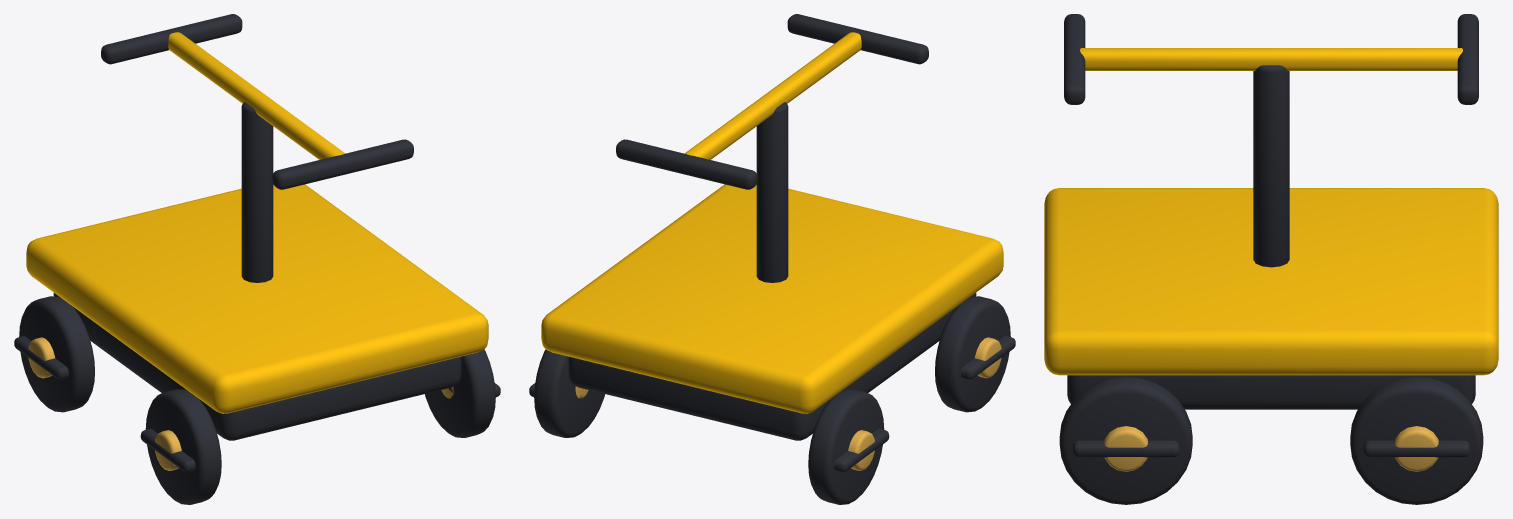
Rendered from carrinho.glb.
3 renders of one model, left to right at view 1: azimuth 30°, elevation 25°; view 2: azimuth 150°, elevation 25°; view 3: azimuth 270°, elevation 25°, orthographic. The views are drawn at different scales.
Parts seen in each view (by area): view 1: Cube, Cube.001, Cylinder.002, Cylinder, Cylinder.008, Cube.006, Cylinder.004, Cube.007, Cube.008, Cube.002, Cube.003, Cylinder.003 (+1 smaller); view 2: Cube, Cube.001, Cylinder, Cylinder.002, Cylinder.008, Cube.006, Cylinder.006, Cube.008, Cube.007, Cube.002, Cube.003, Cylinder.001 (+1 smaller); view 3: Cube, Cylinder.004, Cylinder.006, Cube.001, Cube.006, Cylinder.008, Cube.007, Cube.008, Cube.004, Cube.005, Cylinder.005, Cylinder.007.
Part boxes in pixels (box(x1,y1,x2,y2)): Cube: box(26, 184, 488, 413); Cube.001: box(53, 293, 461, 440); Cylinder.002: box(19, 296, 94, 412); Cylinder: box(145, 389, 221, 504); Cylinder.008: box(241, 102, 273, 282); Cube.006: box(168, 32, 344, 159); Cylinder.004: box(425, 349, 495, 437); Cube.007: box(272, 139, 413, 189); Cube.008: box(101, 14, 242, 64); Cube.002: box(140, 428, 195, 472); Cube.003: box(14, 336, 68, 379); Cylinder.003: box(28, 337, 54, 378); Cube: box(541, 184, 1003, 413); Cube.001: box(568, 293, 976, 440); Cylinder: box(935, 296, 1010, 412); Cylinder.002: box(808, 389, 884, 504); Cylinder.008: box(756, 102, 788, 282); Cube.006: box(685, 32, 861, 159); Cylinder.006: box(534, 349, 604, 437); Cube.008: box(616, 139, 757, 189); Cube.007: box(787, 14, 928, 64); Cube.002: box(961, 336, 1015, 379); Cube.003: box(834, 428, 889, 472); Cylinder.001: box(975, 337, 1001, 378); Cube: box(1044, 188, 1498, 375); Cylinder.004: box(1059, 376, 1192, 504); Cylinder.006: box(1350, 376, 1483, 504); Cube.001: box(1067, 375, 1475, 409); Cube.006: box(1080, 48, 1462, 70); Cylinder.008: box(1253, 65, 1289, 267); Cube.007: box(1064, 14, 1085, 104); Cube.008: box(1457, 14, 1478, 104); Cube.004: box(1073, 440, 1179, 457); Cube.005: box(1363, 440, 1469, 457); Cylinder.005: box(1104, 426, 1147, 471); Cylinder.007: box(1395, 426, 1438, 471).
Size of the model in its own units: 1.39 by 1.37 by 1.5.
